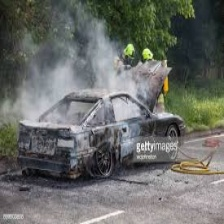smoke: (30, 63, 122, 122)
